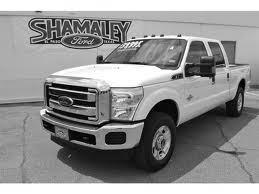car: (39, 35, 251, 173)
